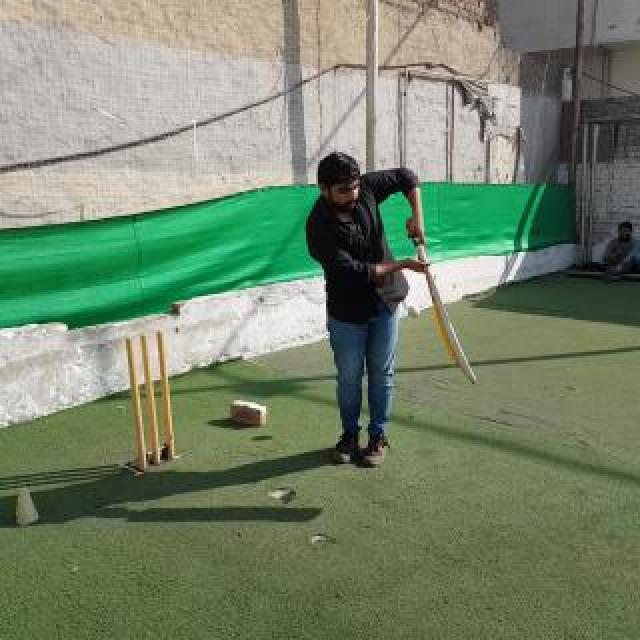ball: (407, 304, 421, 318)
bat: (406, 215, 476, 385)
